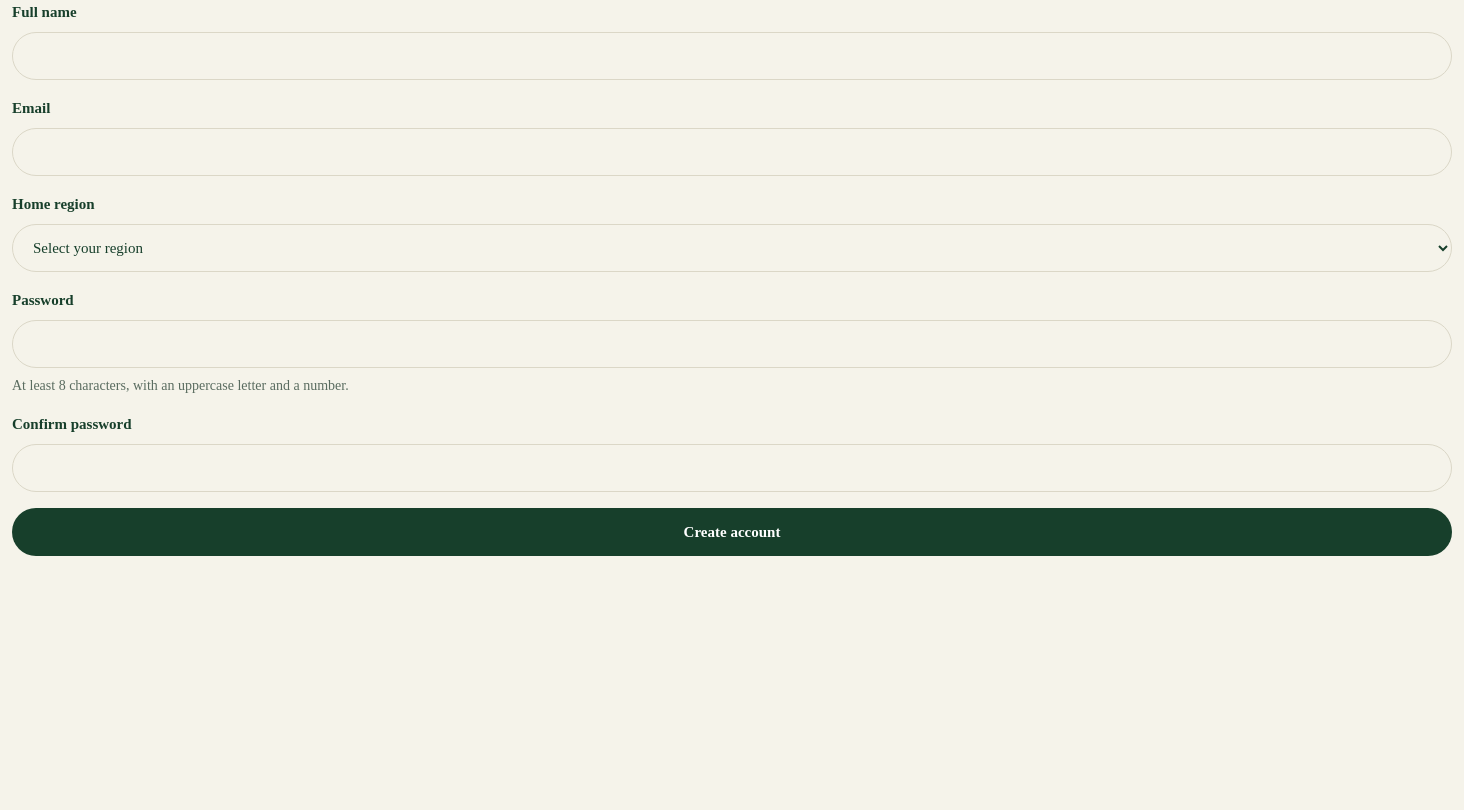
SignUpForm › rejects the weak password password123
This screenshot has width=1464, height=810.
In the field labelled "Full name": {"x": 732, "y": 56} [12,32,1452,80], type "Jane Doe"
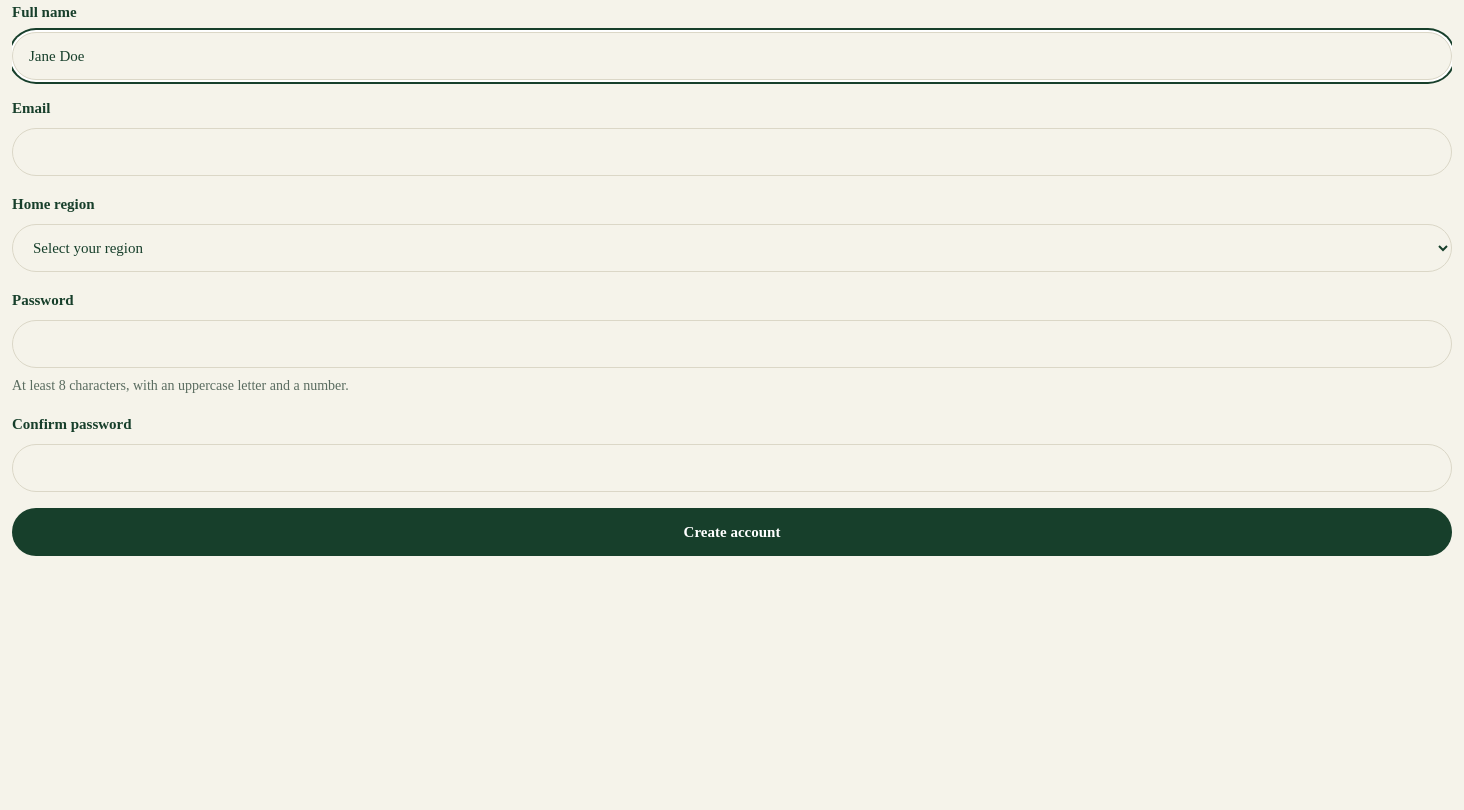
In the field labelled "Email": {"x": 732, "y": 152} [12,128,1452,176], type "jane@example.com"
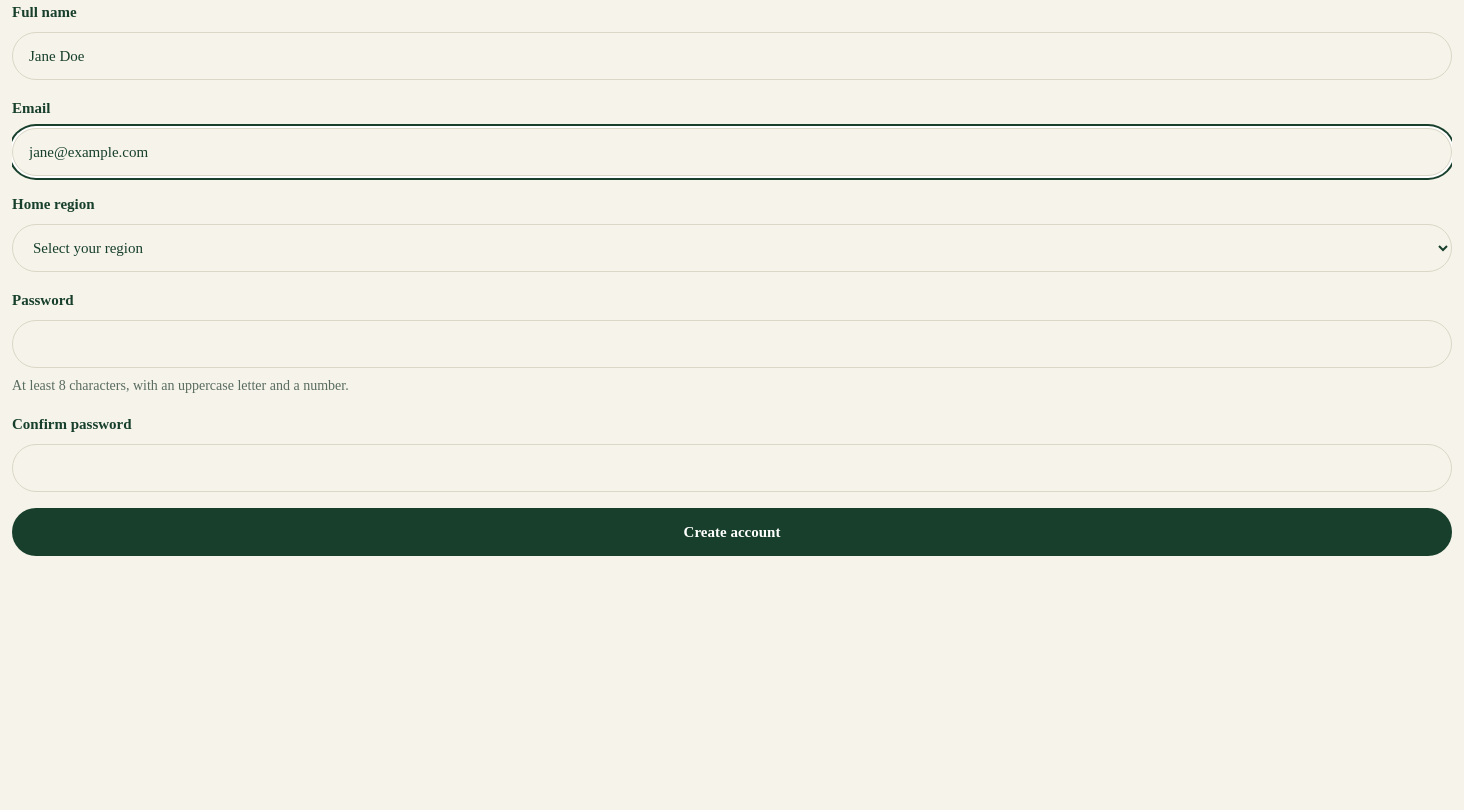
Select "Ashanti" in the dropdown labelled "Home region": {"x": 732, "y": 248} [12,224,1452,272]
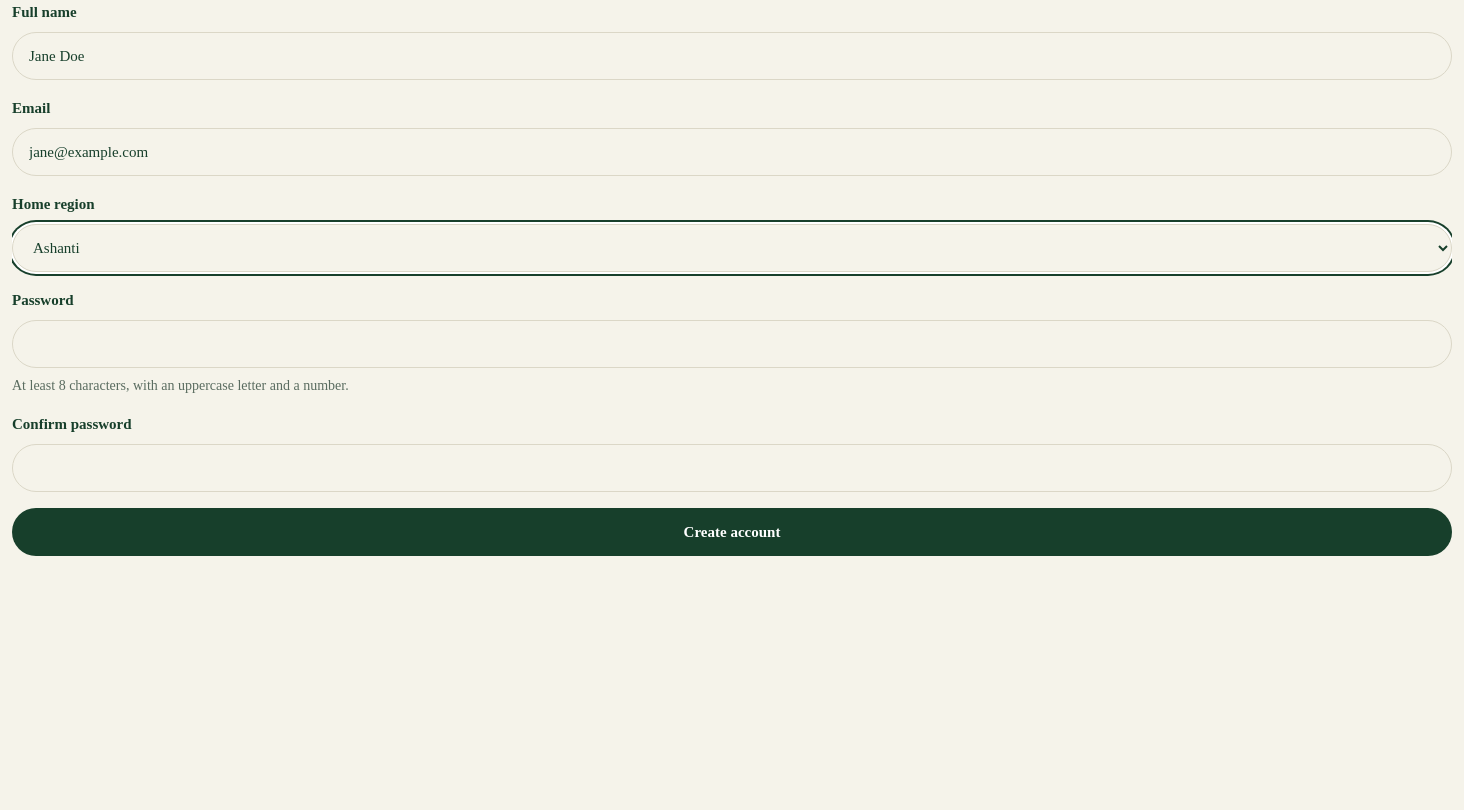
In the password field labelled "Password": {"x": 732, "y": 344} [12,320,1452,368], type "password123"
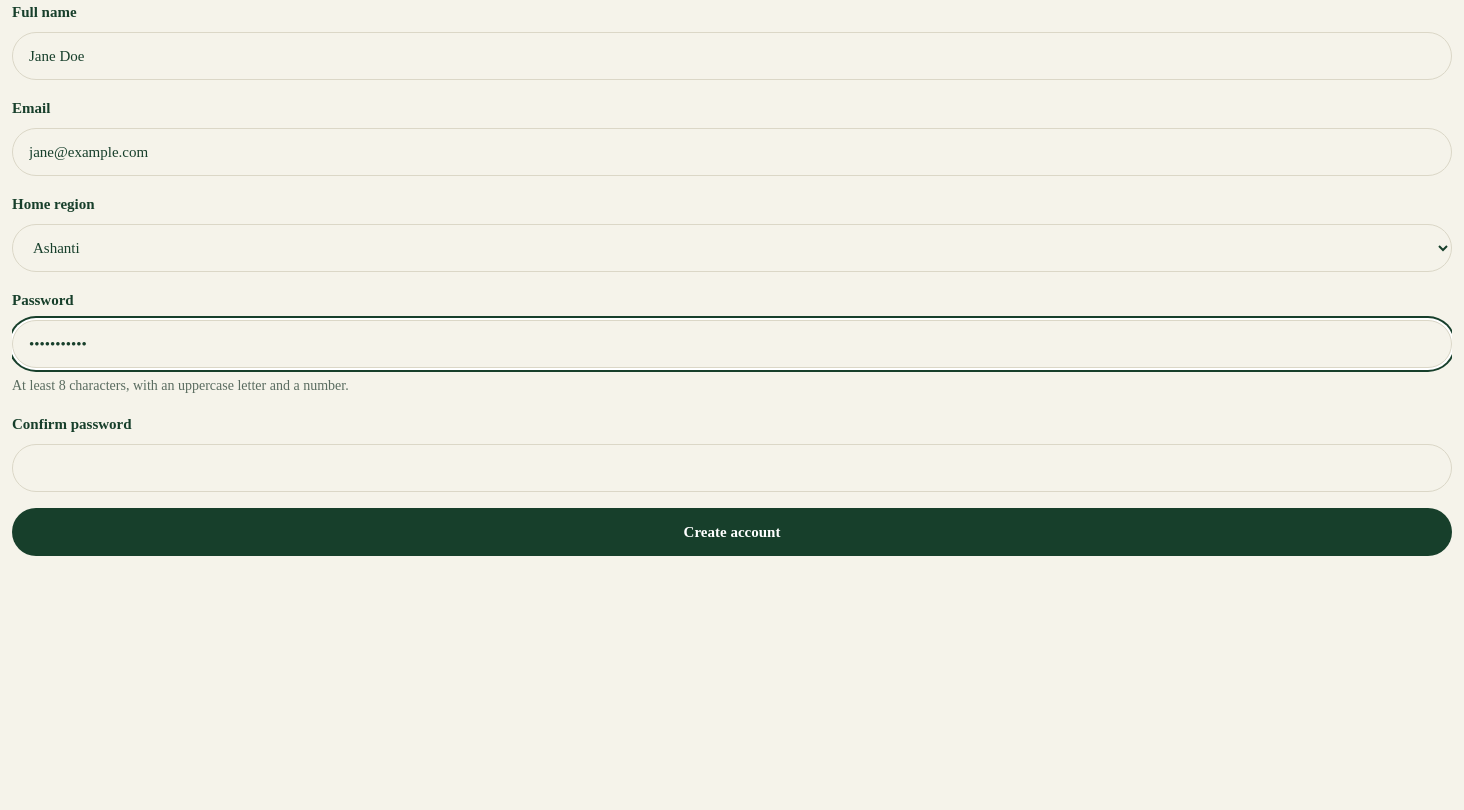
In the password field labelled "Confirm password": {"x": 732, "y": 468} [12,444,1452,492], type "password123"
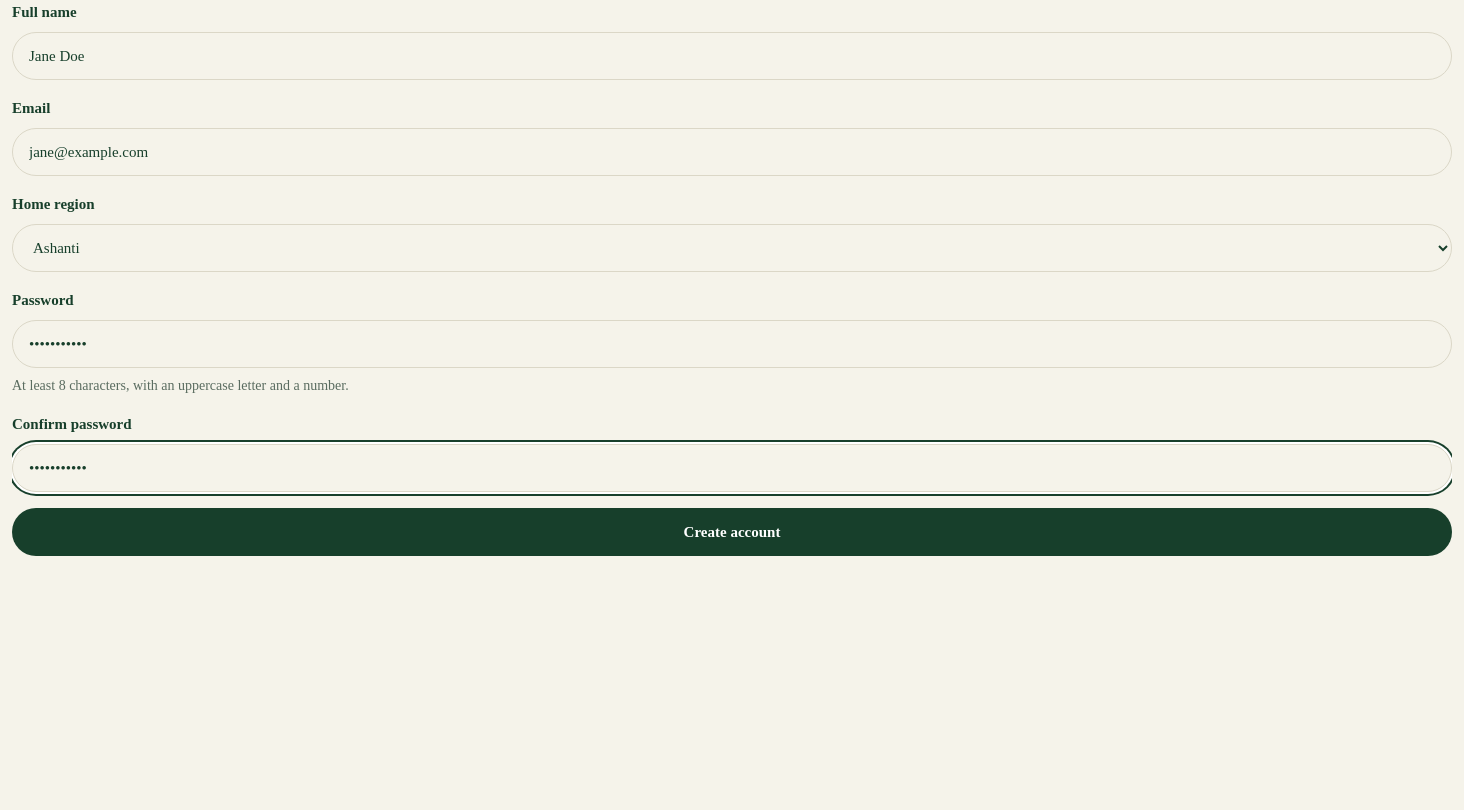
Click the button "Create account": {"x": 732, "y": 532} [12,508,1452,556]
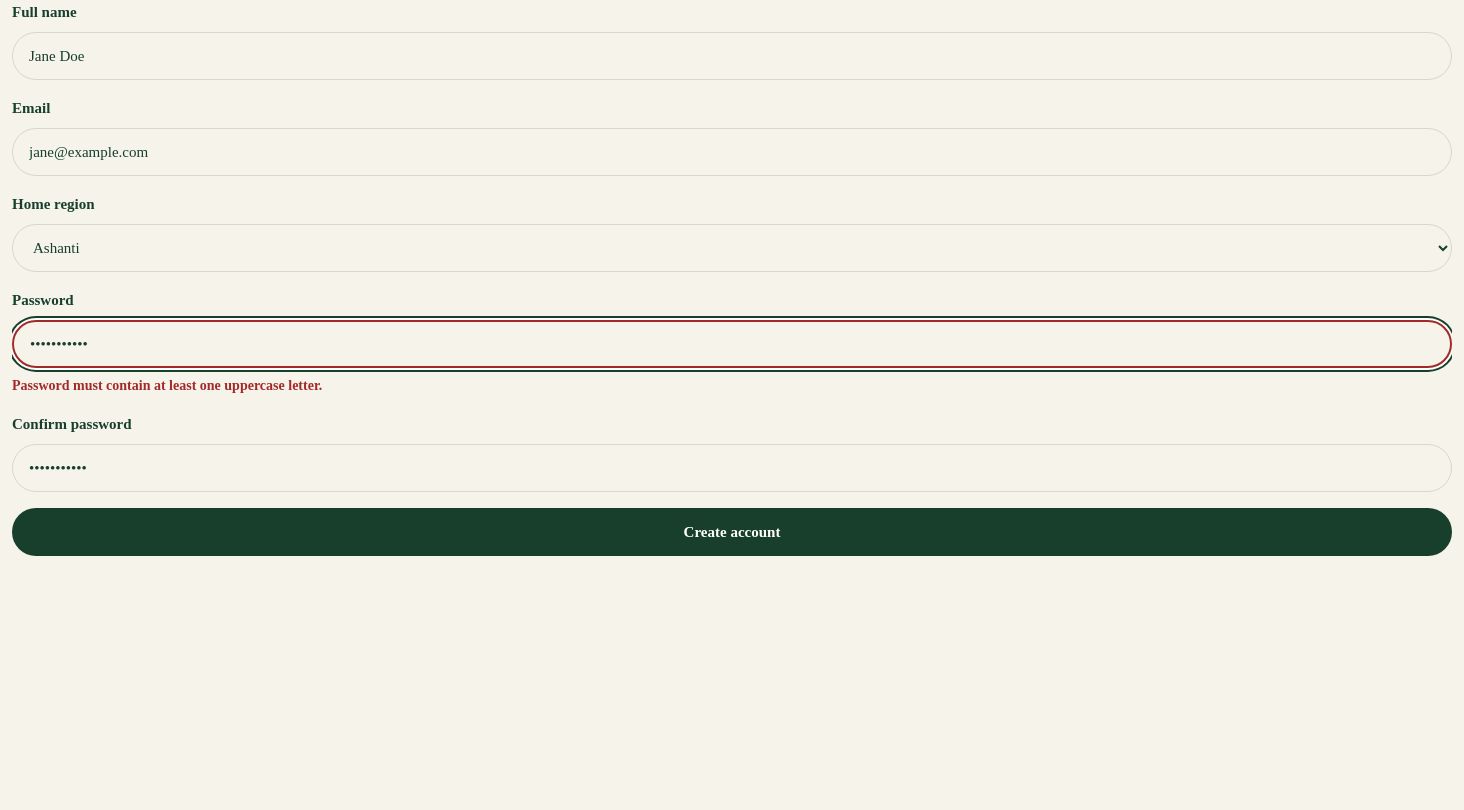
Check: the text "Password must contain at least one uppercase letter." is shown, box [12,378,322,393]
